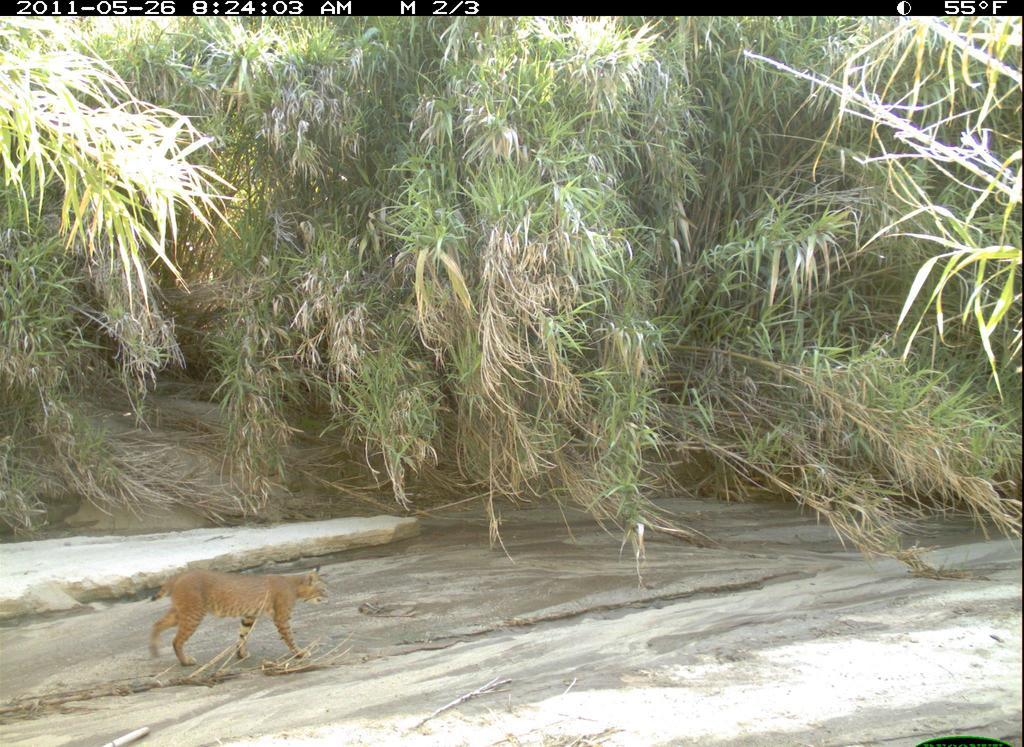bobcat: (150, 565, 332, 675)
